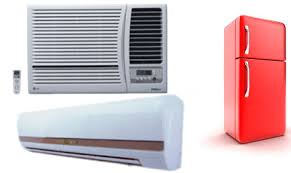AC: (15, 106, 185, 170)
Refrigerator: (224, 27, 284, 137)
